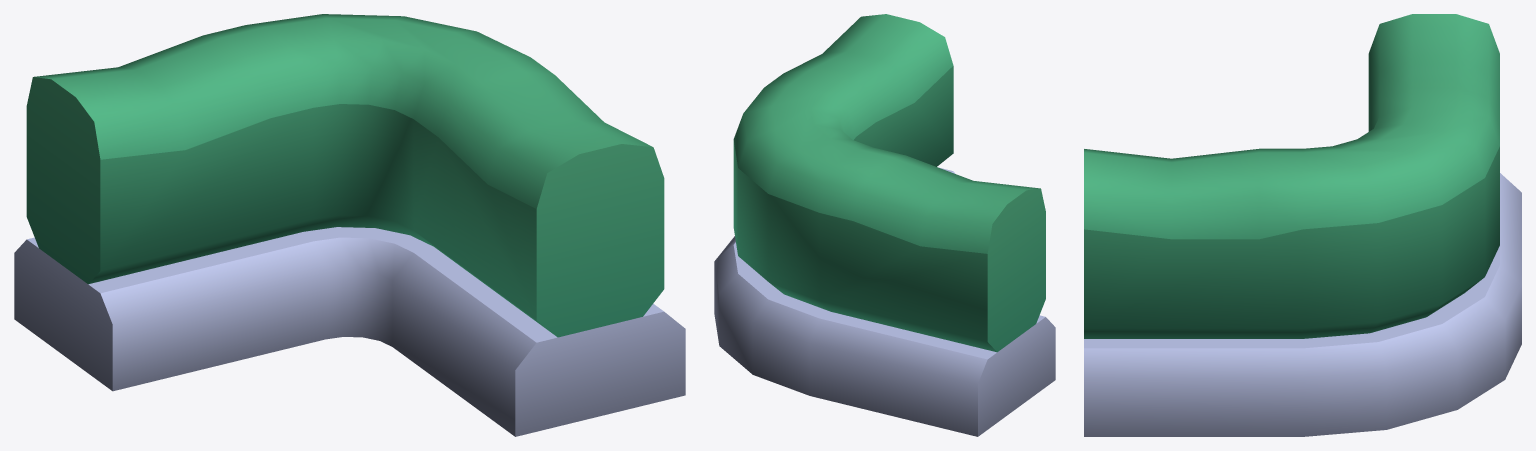
Rendered from hedge-large-curved.glb.
3 views of the same model, side by side, from view 1: azimuth 30°, elevation 25°; view 2: azimuth 150°, elevation 25°; view 3: azimuth 270°, elevation 25° (orthographic). The views are drawn at different scales.
Parts seen in each view (by area): view 1: hedge-large-curved; view 2: hedge-large-curved; view 3: hedge-large-curved.
Part boxes in pixels (bbox=[...]): hedge-large-curved: bbox=[14, 14, 685, 436]; hedge-large-curved: bbox=[714, 14, 1055, 436]; hedge-large-curved: bbox=[1084, 14, 1521, 436].
Bounding box in the file's own units: 1 × 0.6 × 1.
Materials: 1 (1 with a texture image).
